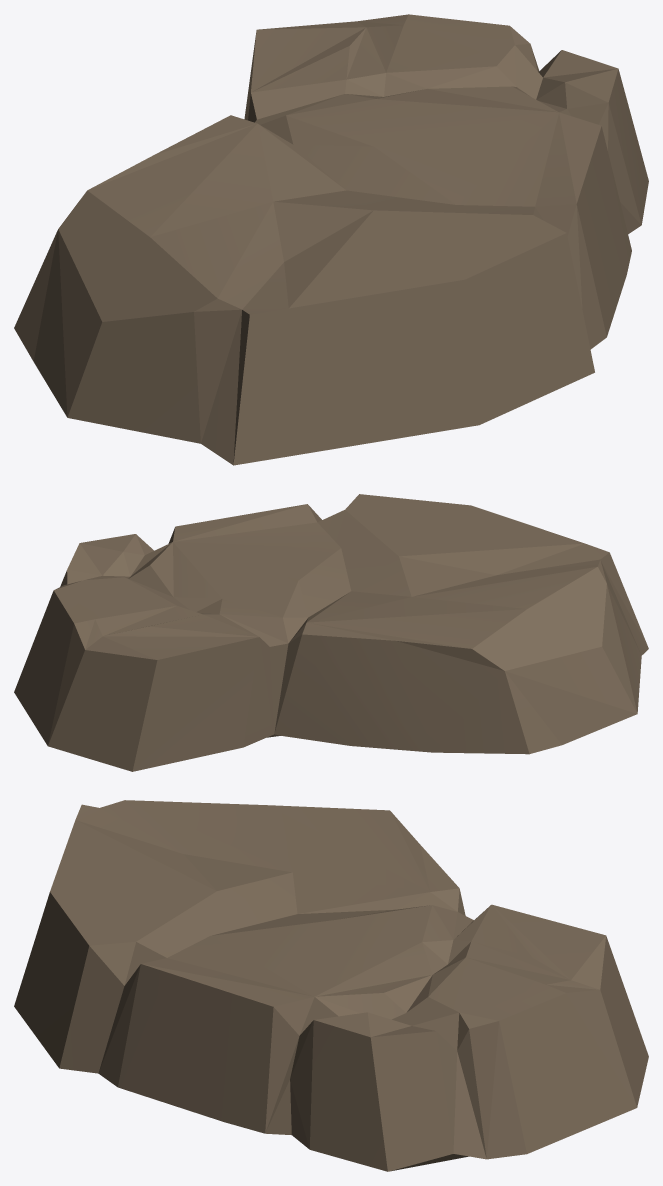
File: Rock_2.fbx
The picture shows the model from 3 angles, top to bottom: view 1: azimuth 30°, elevation 25°; view 2: azimuth 150°, elevation 25°; view 3: azimuth 270°, elevation 25°; orthographic projection. The views are drawn at different scales.
Parts seen in each view (by area): view 1: Rock_2; view 2: Rock_2; view 3: Rock_2.
Part boxes in pixels (x1,y1,x2,y2): Rock_2: [14, 14, 648, 465]; Rock_2: [14, 494, 648, 771]; Rock_2: [14, 800, 648, 1171].
Bounding box in the file's own units: 255 × 47 × 229.
